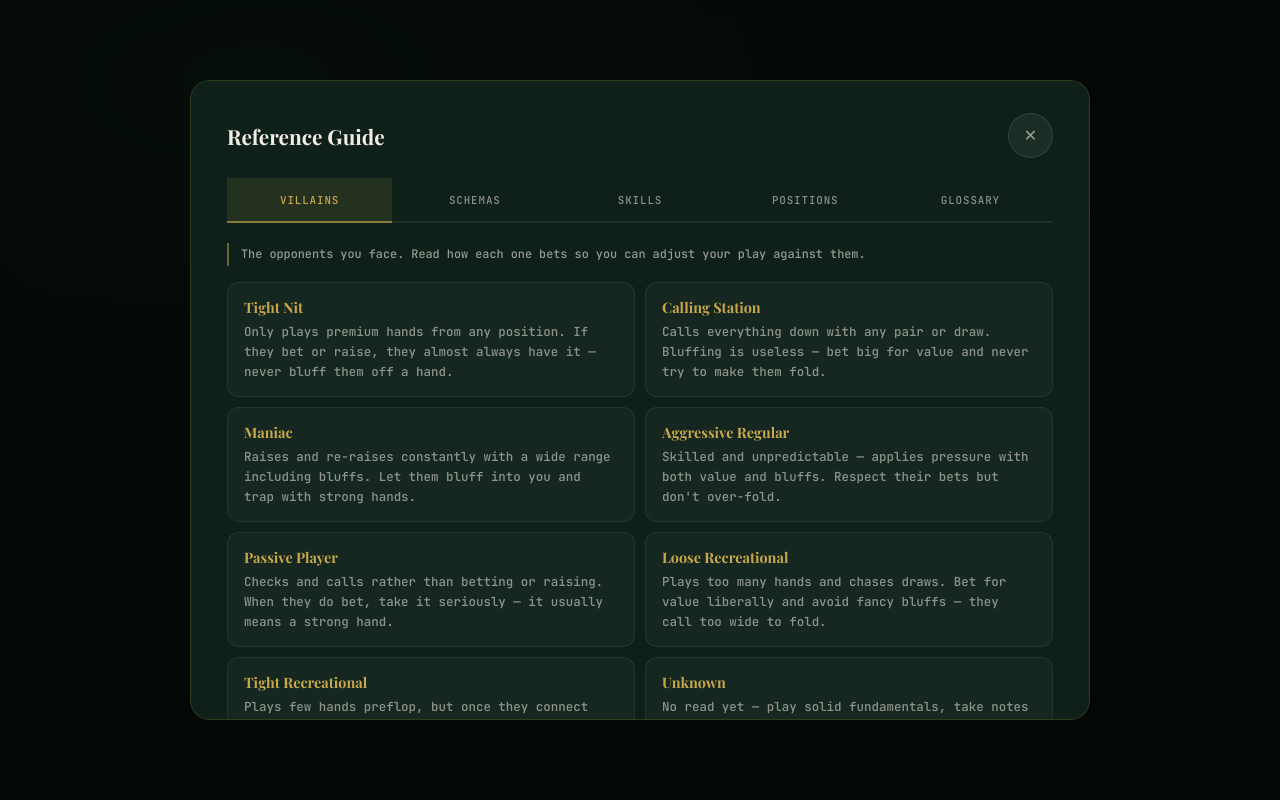
Test: tabs › every tab renders its own content
The image size is (1280, 800).
Click the button "Schemas".
click(475, 200)  # box 392,178 -> 557,223
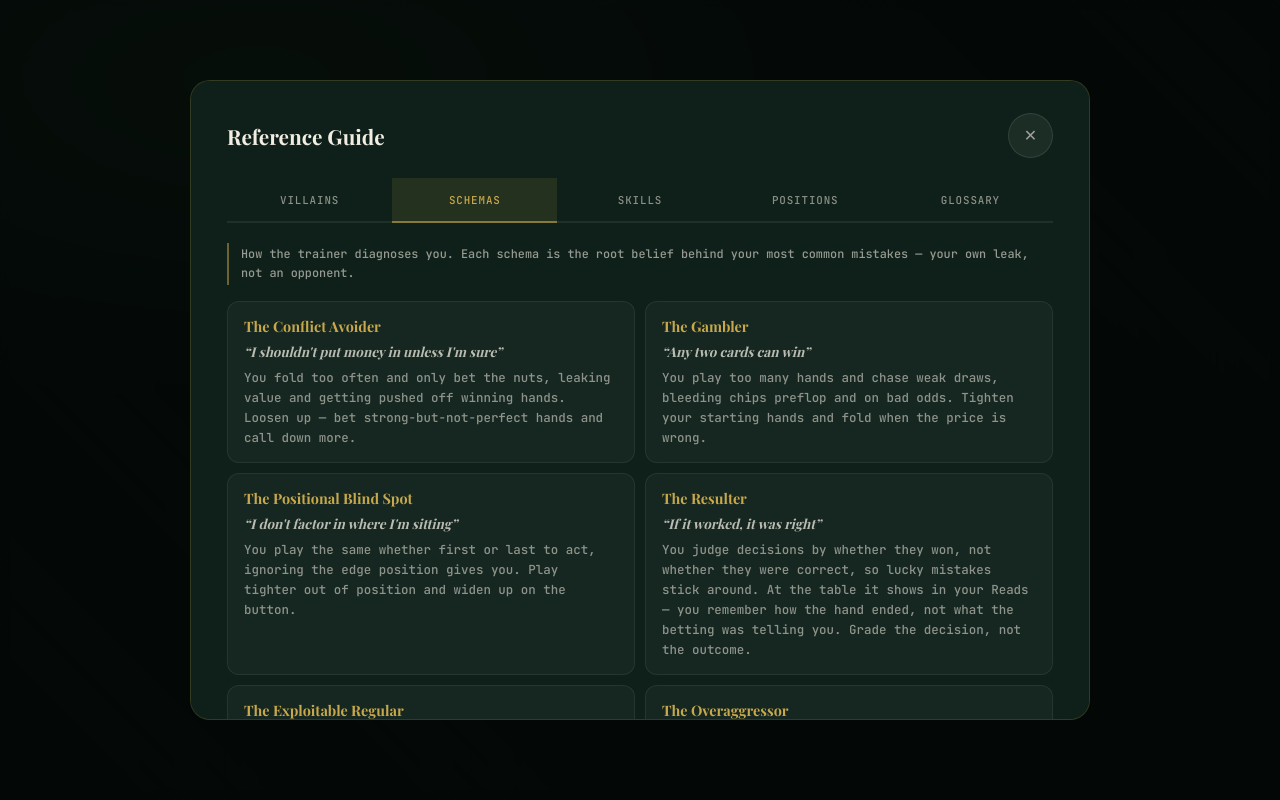
Now the text "The Conflict Avoider" is shown, box 244,316 -> 381,336
Click the button "Skills".
click(640, 200)  # box 557,178 -> 723,223
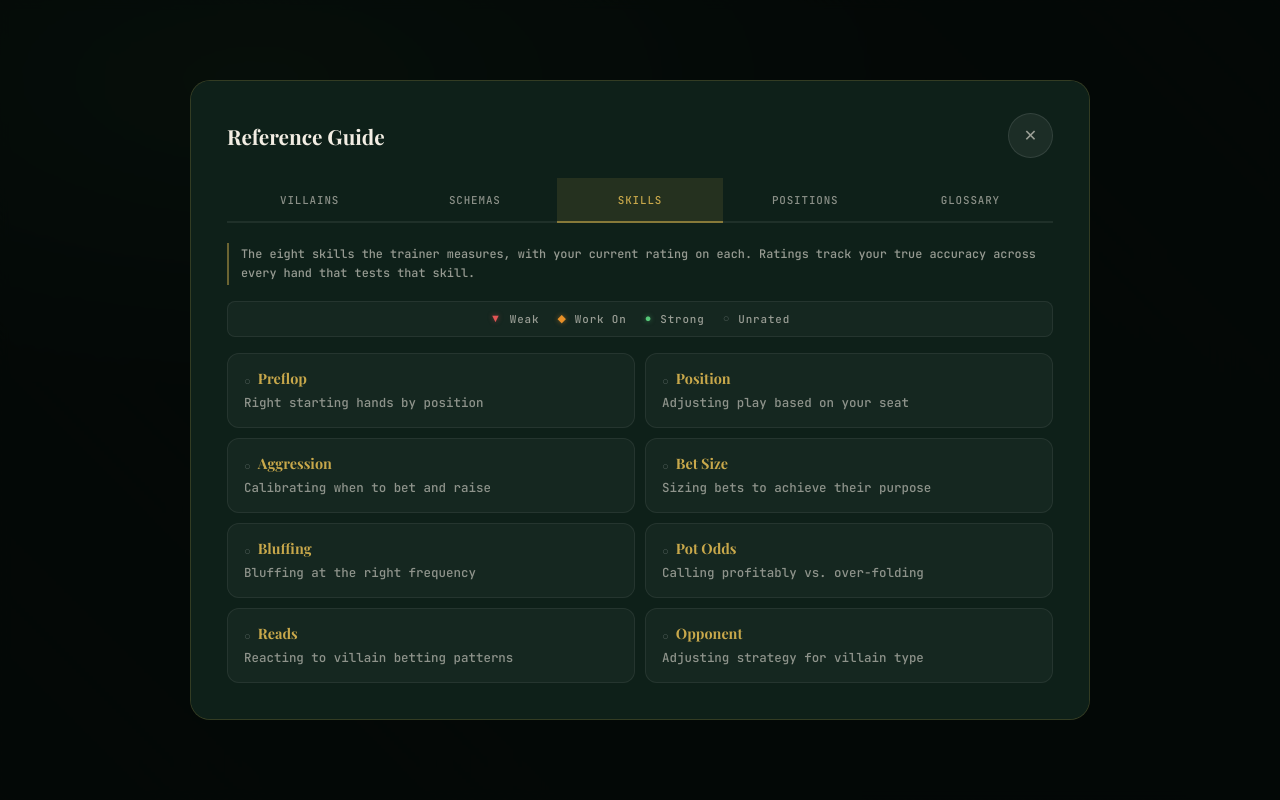
Now the text "eight skills the trainer measures" is shown, box 241,246 -> 1036,281
Click the button "Positions".
click(805, 200)  # box 723,178 -> 888,223
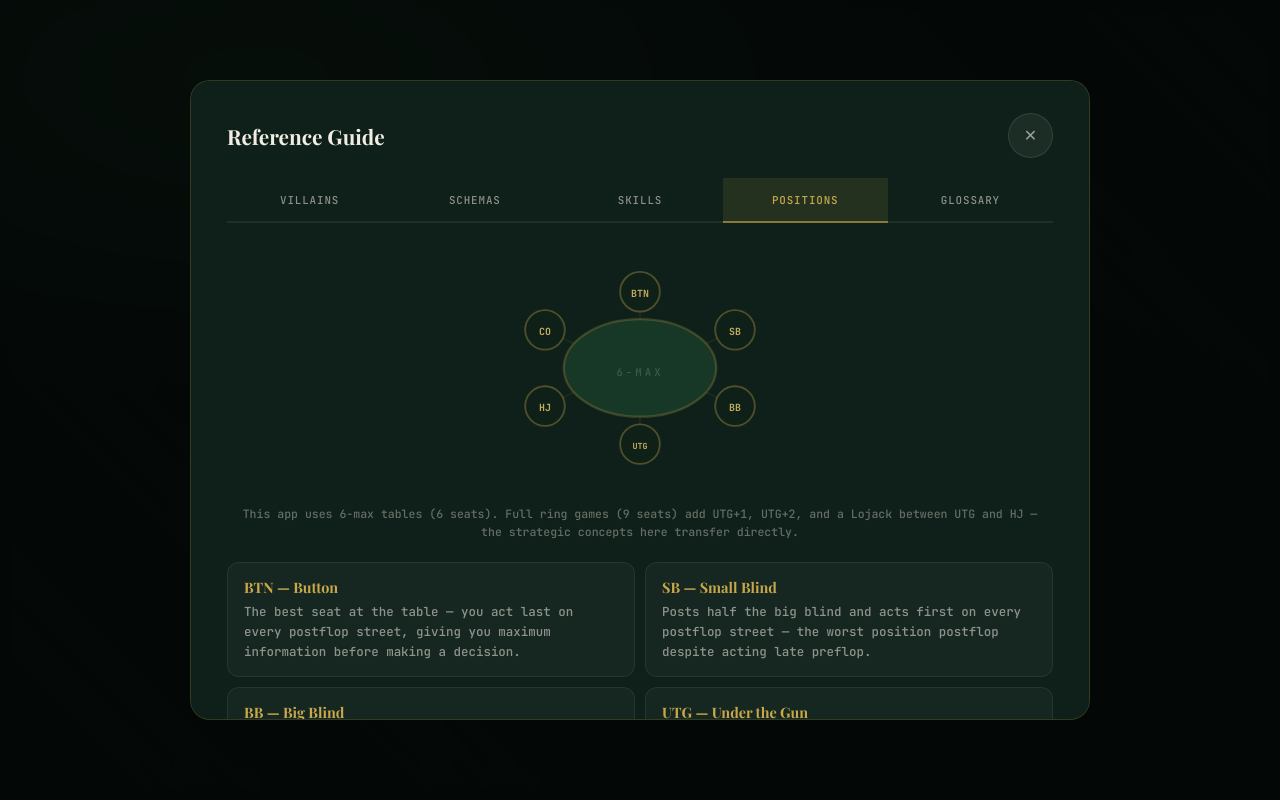
Now the icon "6-MAX BTN SB BB UTG HJ CO" is shown, box 480,243 -> 800,493
Click the button "Glossary".
click(970, 200)  # box 888,178 -> 1053,223
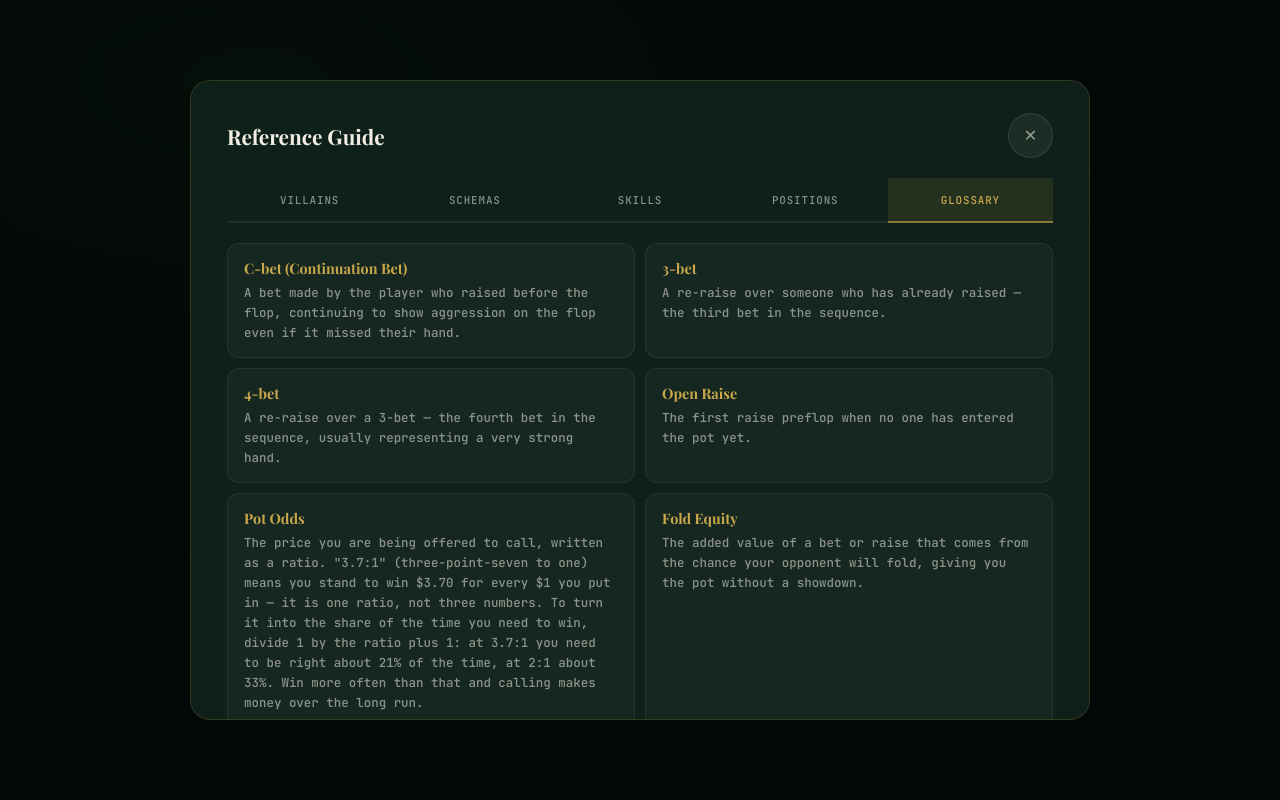
Expected: the text "The opponents you face" is not shown
Now the text "Pot Odds" is shown, box 244,508 -> 305,528
